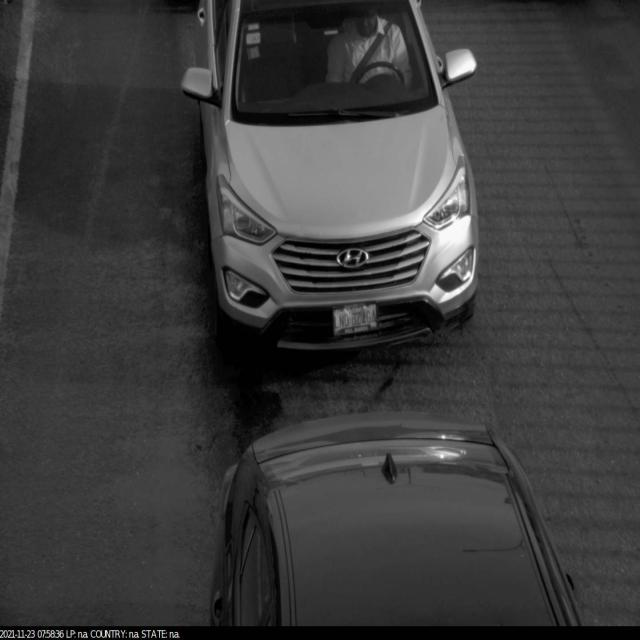windshield: (230, 0, 438, 127)
